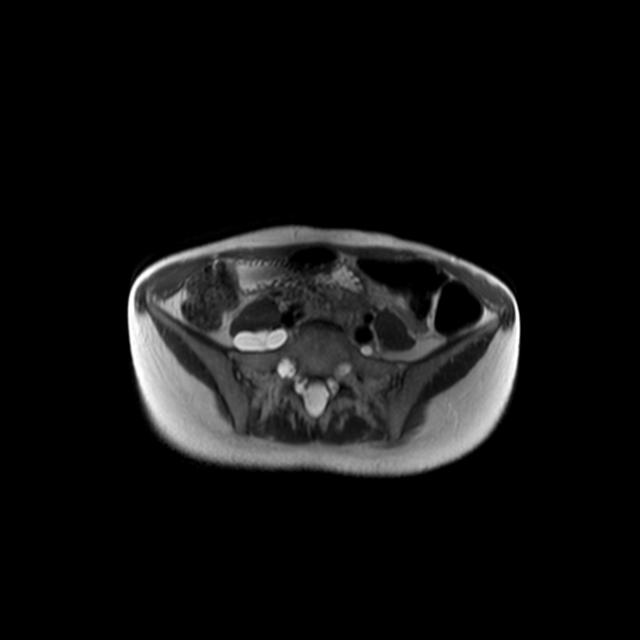sol: (392, 304, 429, 336)
